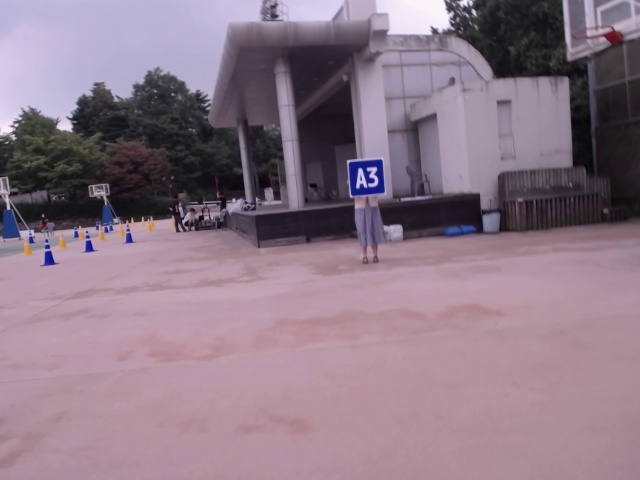delivery_a3: (347, 158, 386, 197)
